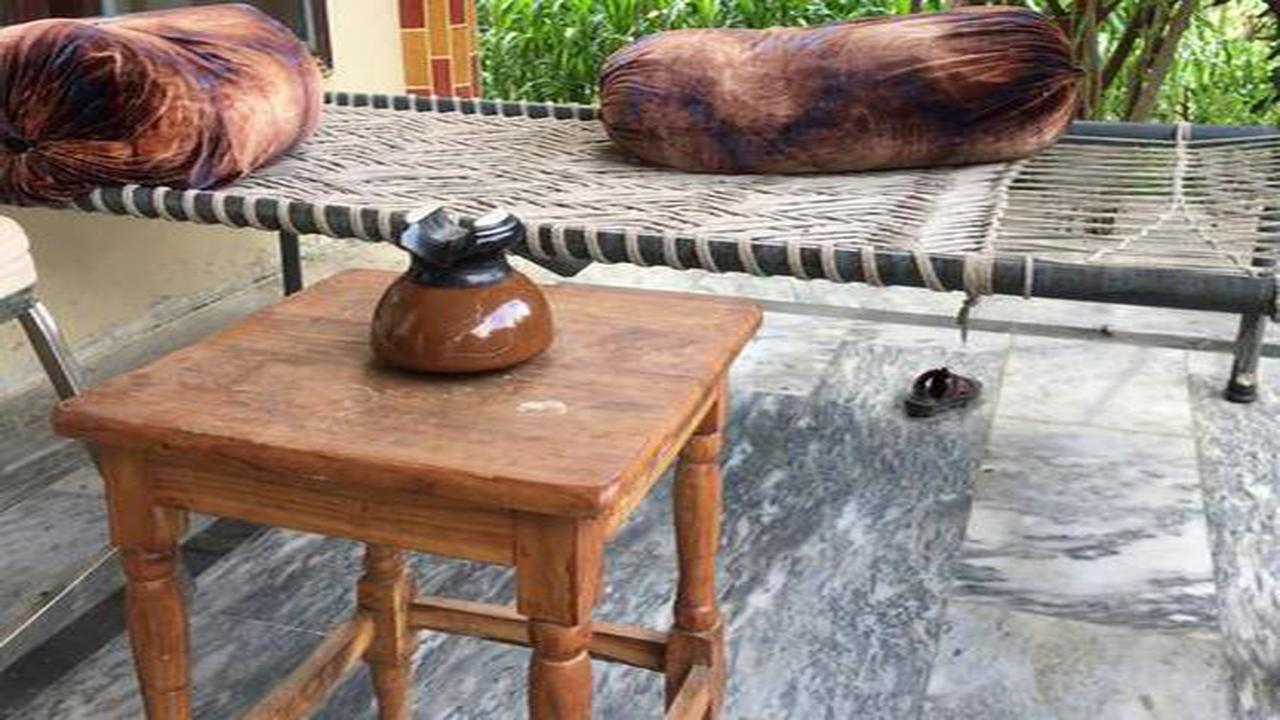insulator_pin: (348, 194, 576, 388)
